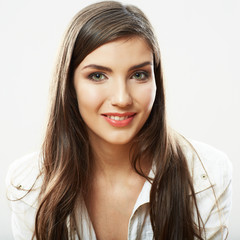teen: (60, 7, 174, 162)
